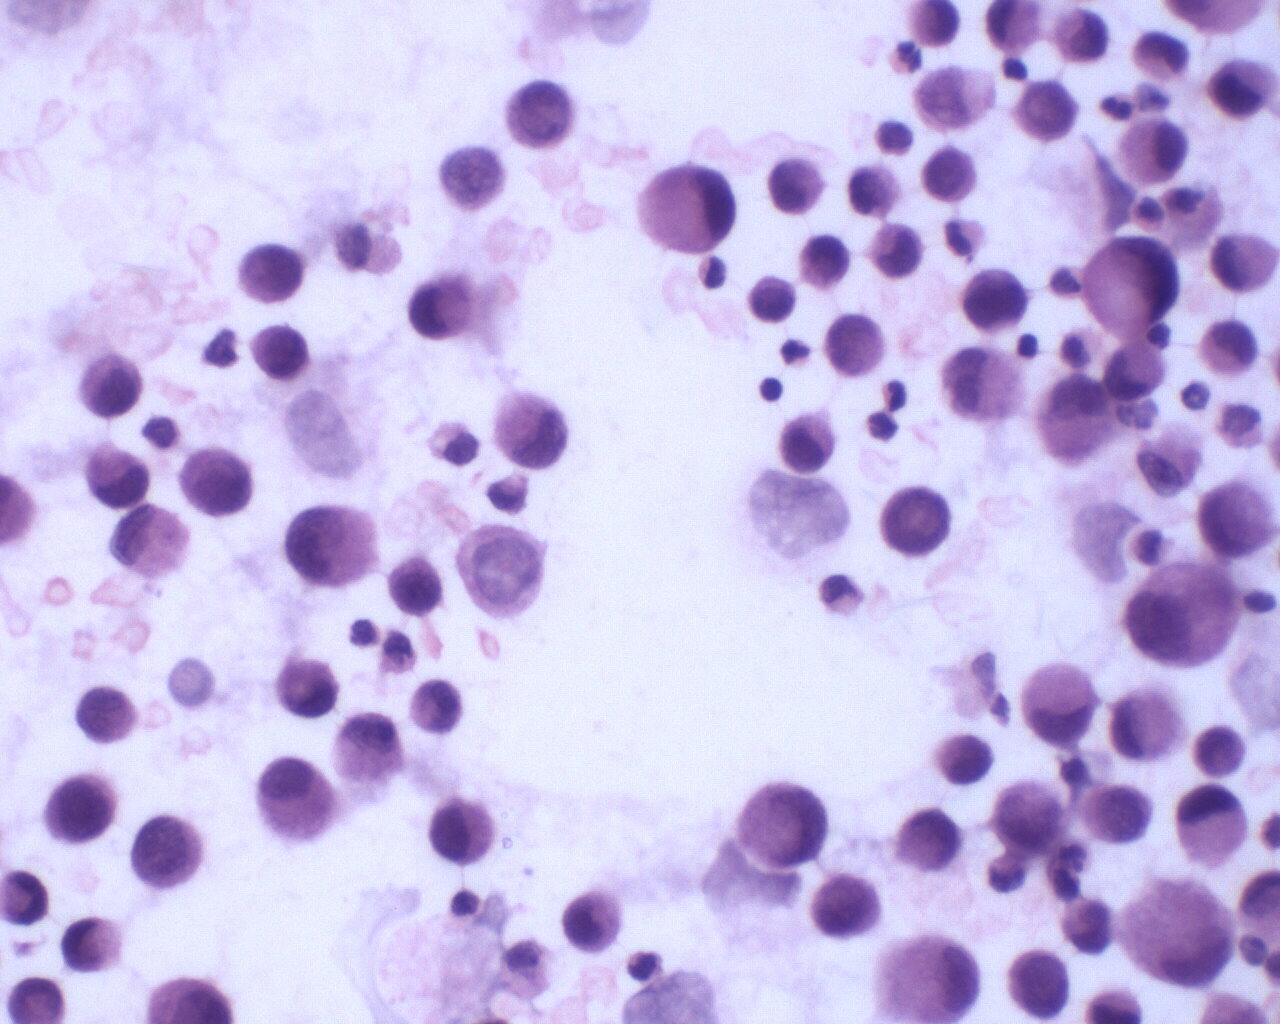ab: (730, 776, 835, 875), (279, 501, 385, 589), (485, 385, 577, 471), (807, 865, 897, 950), (38, 769, 123, 851), (499, 79, 585, 159), (1195, 478, 1275, 563), (127, 815, 207, 898), (879, 483, 955, 560), (74, 347, 150, 421), (177, 445, 253, 518), (1079, 777, 1158, 847), (1003, 947, 1075, 1022), (955, 266, 1031, 335), (773, 401, 840, 478), (562, 882, 624, 961), (1013, 76, 1081, 146), (233, 242, 306, 308), (70, 684, 141, 748), (934, 727, 1000, 792), (248, 320, 311, 386), (841, 160, 910, 220), (386, 553, 448, 618), (918, 141, 984, 202), (867, 216, 927, 283), (799, 232, 854, 290), (745, 274, 805, 323)
histo: (1073, 230, 1183, 338), (874, 927, 984, 1021), (633, 162, 737, 257), (1178, 778, 1254, 876)
meso: (254, 747, 338, 851), (1111, 113, 1190, 186)
neutro: (875, 372, 913, 415), (777, 336, 813, 369)
